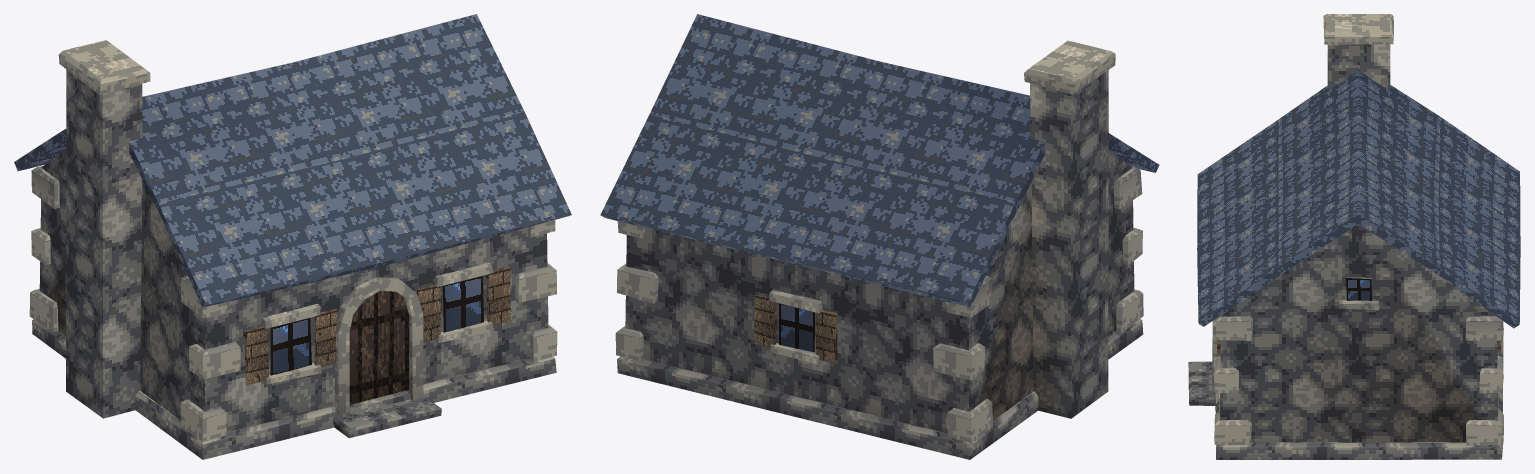
File: vlg.cottage__stone.glb
3 renders of one model, left to right at view 1: azimuth 30°, elevation 25°; view 2: azimuth 150°, elevation 25°; view 3: azimuth 270°, elevation 25°, orthographic. The views are drawn at different scales.
Parts seen in each view (by area): view 1: kit_roof, kit_stonework, kit_walls, kit_fittings; view 2: kit_roof, kit_walls, kit_stonework, kit_fittings; view 3: kit_roof, kit_walls, kit_stonework, kit_fittings.
Part boxes in pixels (x1,y1,x2,y2): kit_roof: [14, 14, 571, 307]; kit_stonework: [29, 40, 557, 459]; kit_walls: [39, 149, 548, 432]; kit_fittings: [244, 262, 510, 438]; kit_roof: [600, 14, 1159, 307]; kit_walls: [625, 150, 1134, 433]; kit_stonework: [615, 40, 1143, 459]; kit_fittings: [754, 290, 837, 364]; kit_roof: [1197, 70, 1520, 328]; kit_walls: [1220, 224, 1497, 442]; kit_stonework: [1214, 14, 1503, 459]; kit_fittings: [1188, 277, 1503, 405].
Size of the model in its own units: 6.95 by 5.69 by 5.96.
7 materials, 7 textured.
